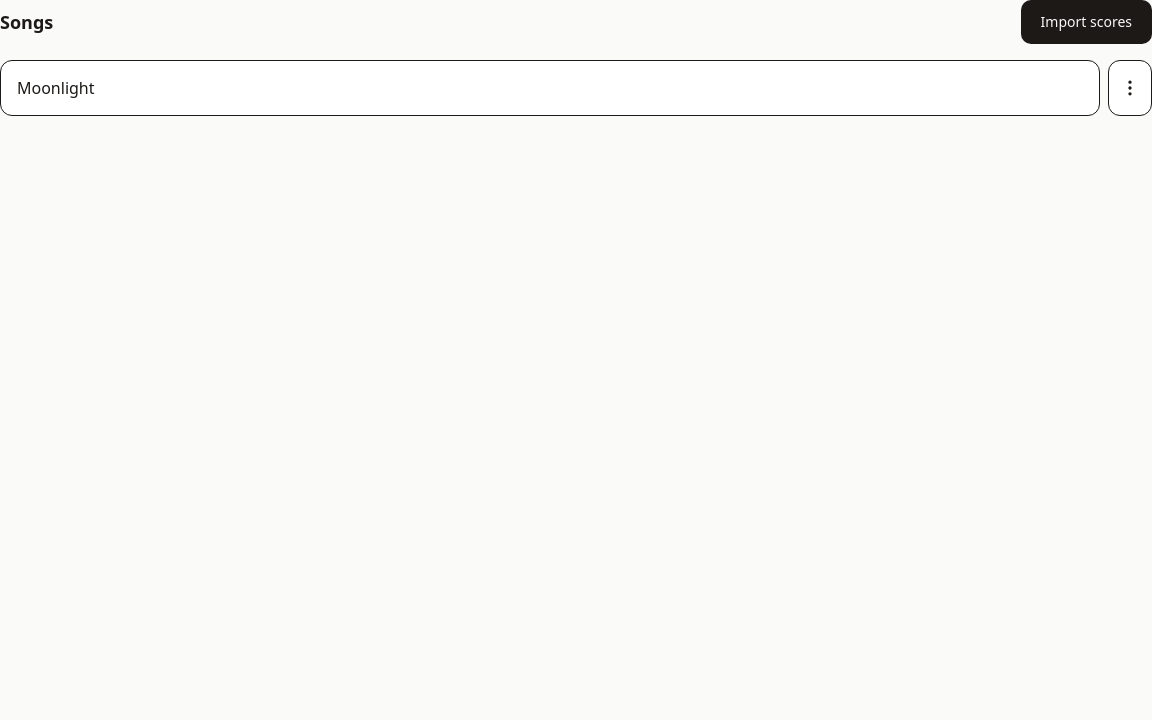
Test: renaming from the row menu changes the name shown in the list
Expected: the button "Moonlight" is shown, [0,60,1100,116]
Click the button named "Actions for Moonlight". click: (1130, 88)
box: [1108,60,1151,116]
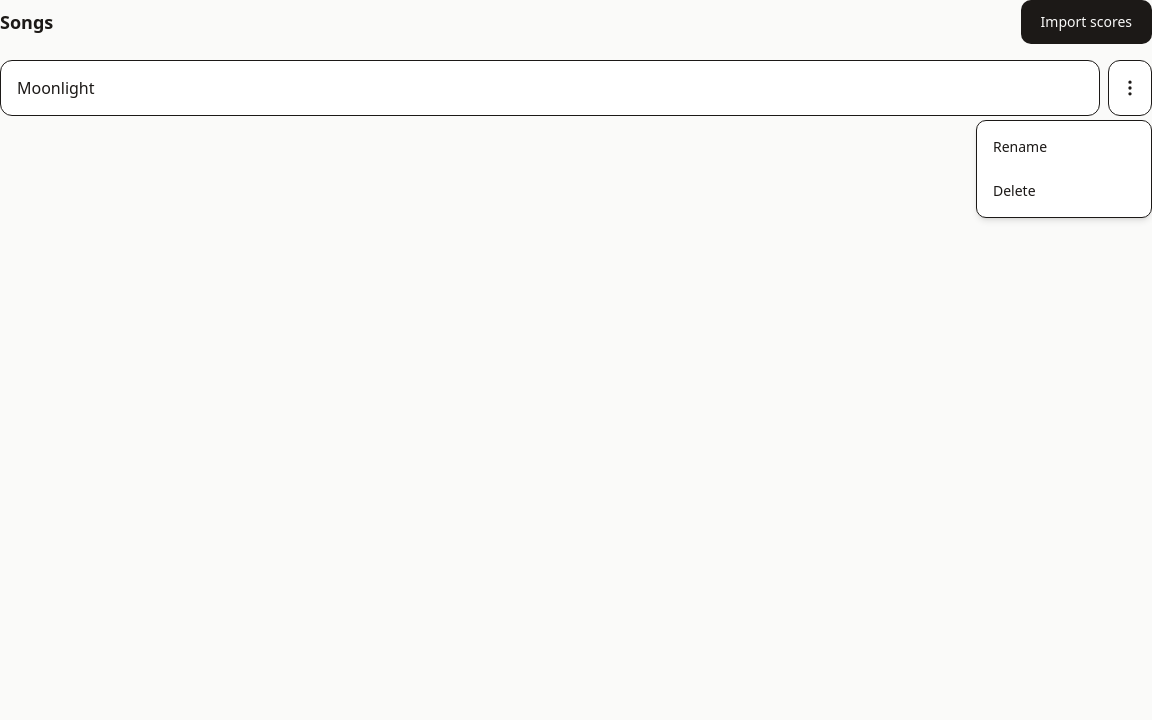
Click the menu item "Rename". click: (1020, 146)
box: [993,137,1047,156]
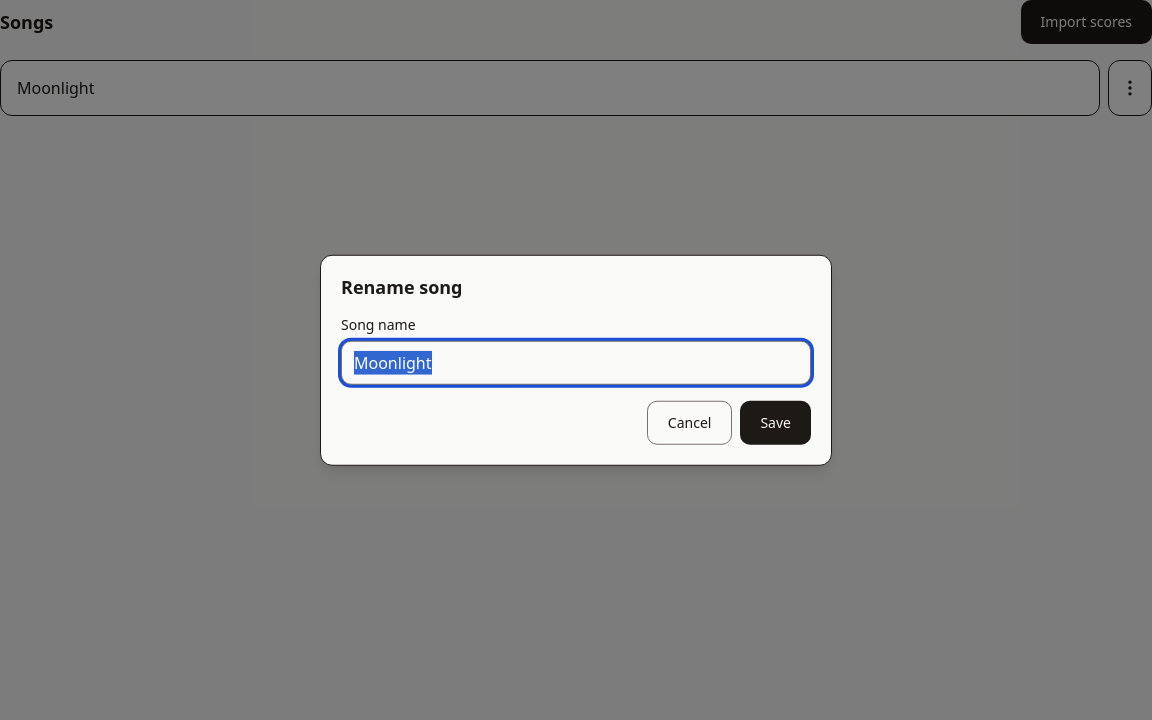
Clear the field labelled "Song name". click: (576, 362)
box: [341,340,811,384]
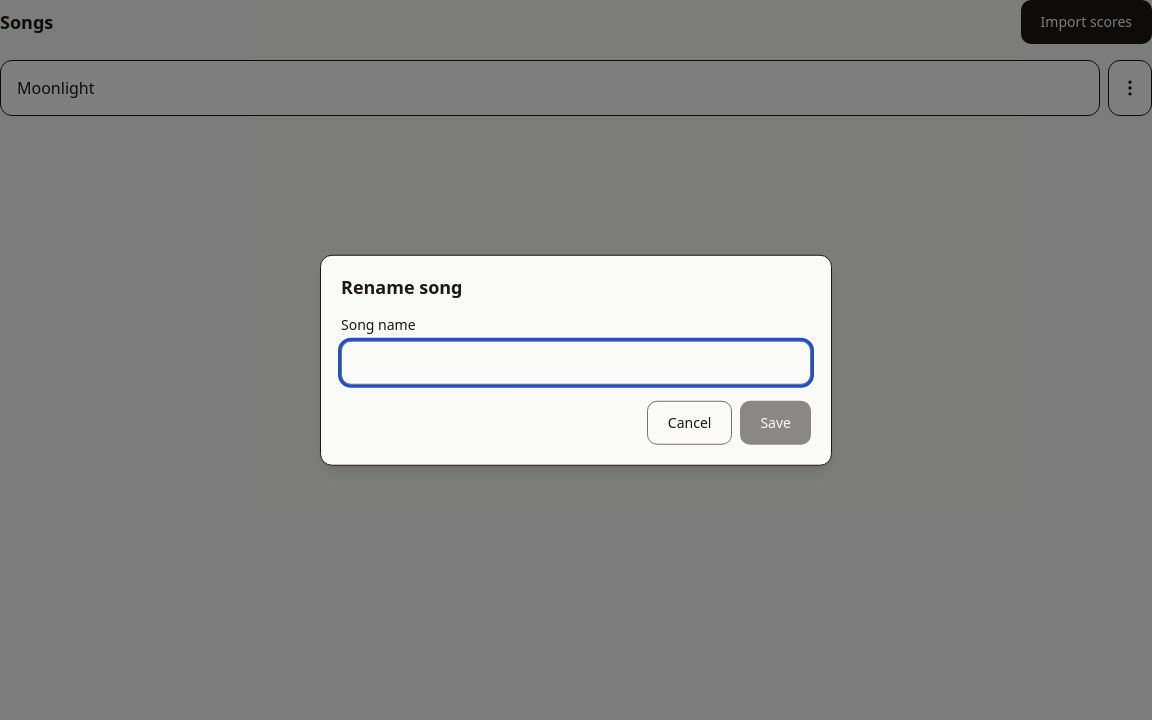
Type keys "Clair de lune"
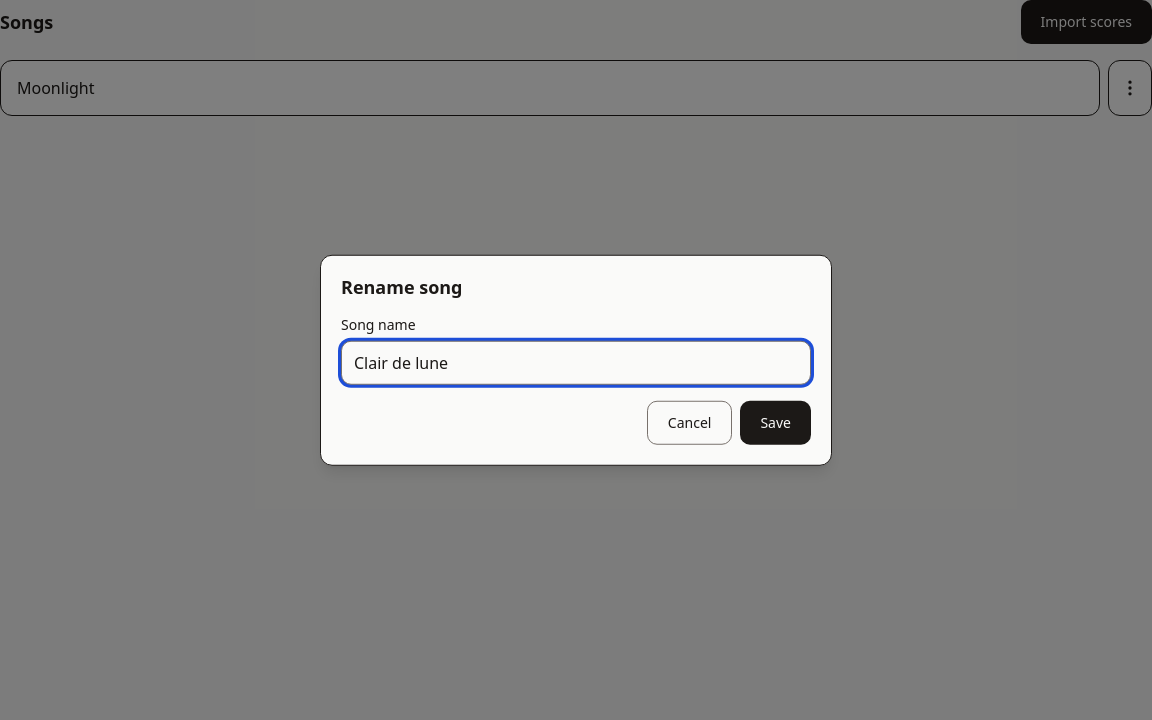
Press Enter
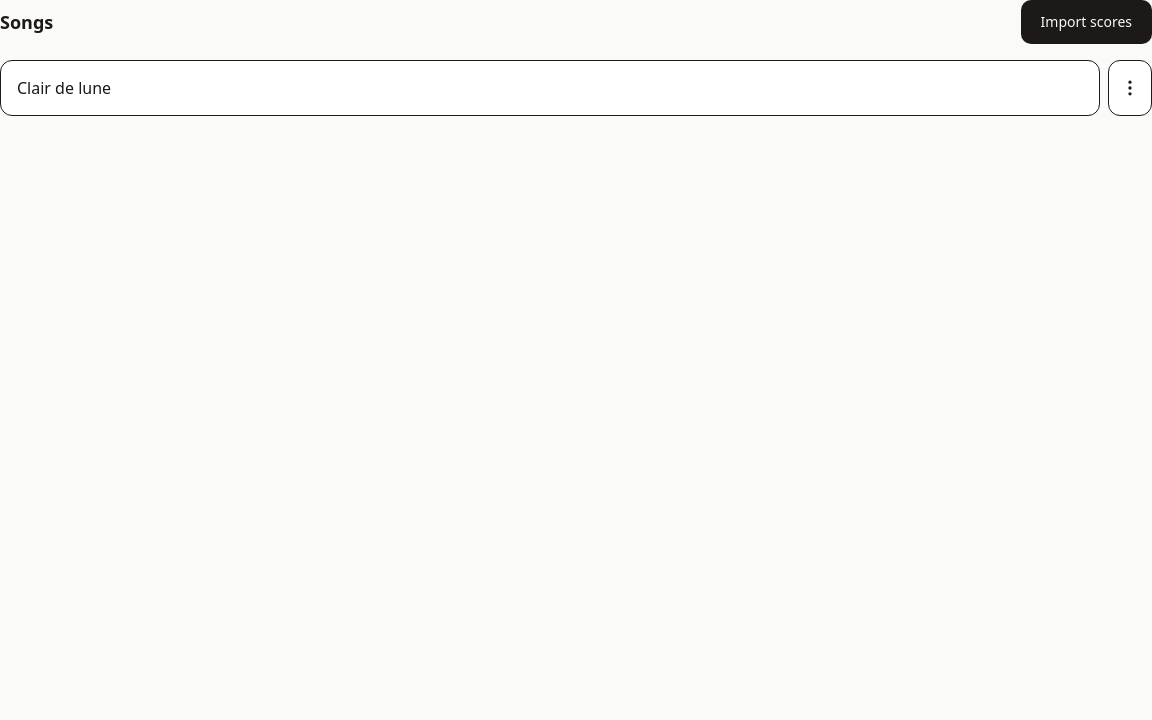
Now the button "Clair de lune" is shown, box [0,60,1100,116]
Now the dialog is gone
